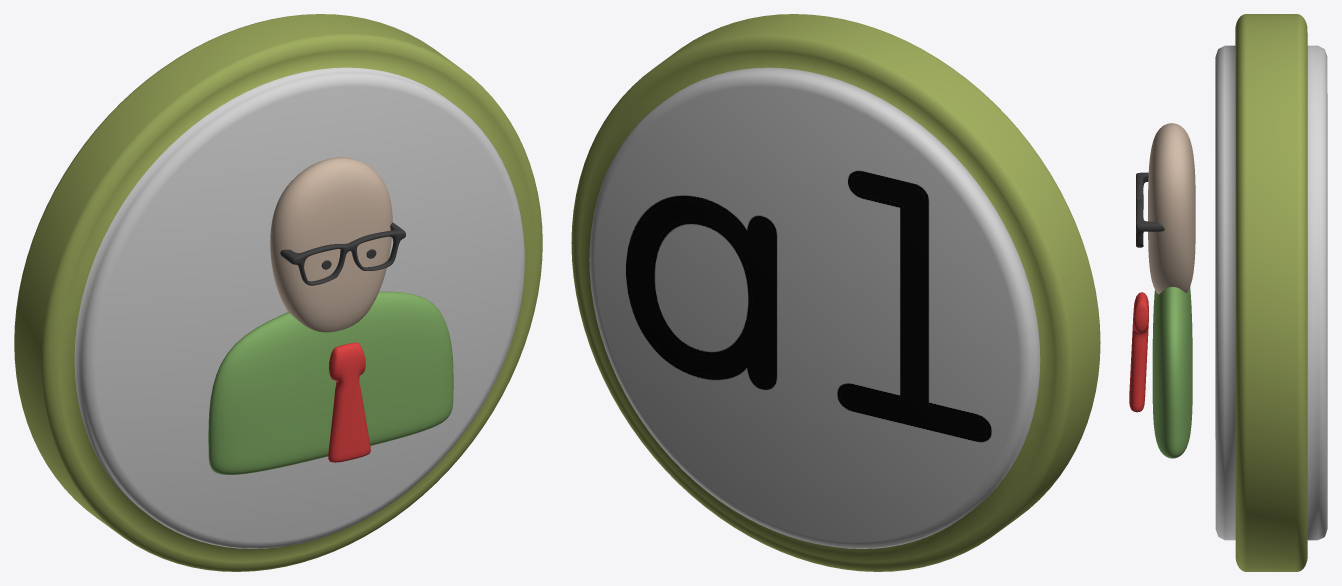
The model's file is bald.gltf.
3 renders of one model, left to right at view 1: azimuth 30°, elevation 25°; view 2: azimuth 150°, elevation 25°; view 3: azimuth 270°, elevation 25°, orthographic. The views are drawn at different scales.
Parts seen in each view (by area): view 1: coin, Cube.001, Cube, Cube.003, Cylinder; view 2: coin; view 3: coin, Cube, Cube.001, Cube.003, Cylinder.
Boxes of the visible parts, x1,y1,x2,y2 form: coin: (14, 14, 542, 571); Cube.001: (208, 291, 453, 474); Cube: (270, 157, 392, 332); Cube.003: (328, 342, 370, 462); Cylinder: (280, 222, 405, 285); coin: (571, 14, 1100, 571); coin: (1215, 14, 1327, 571); Cube: (1148, 123, 1195, 294); Cube.001: (1152, 287, 1192, 458); Cube.003: (1129, 292, 1148, 412); Cylinder: (1136, 172, 1164, 247).
Size of what is drawn, in the model's own units: 2.56 by 2.56 by 0.9088.
7 materials, 1 textured.
